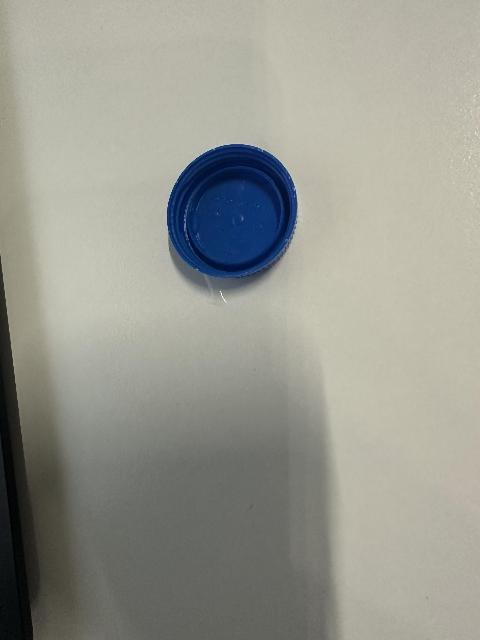Plastik: (165, 143, 300, 276)
